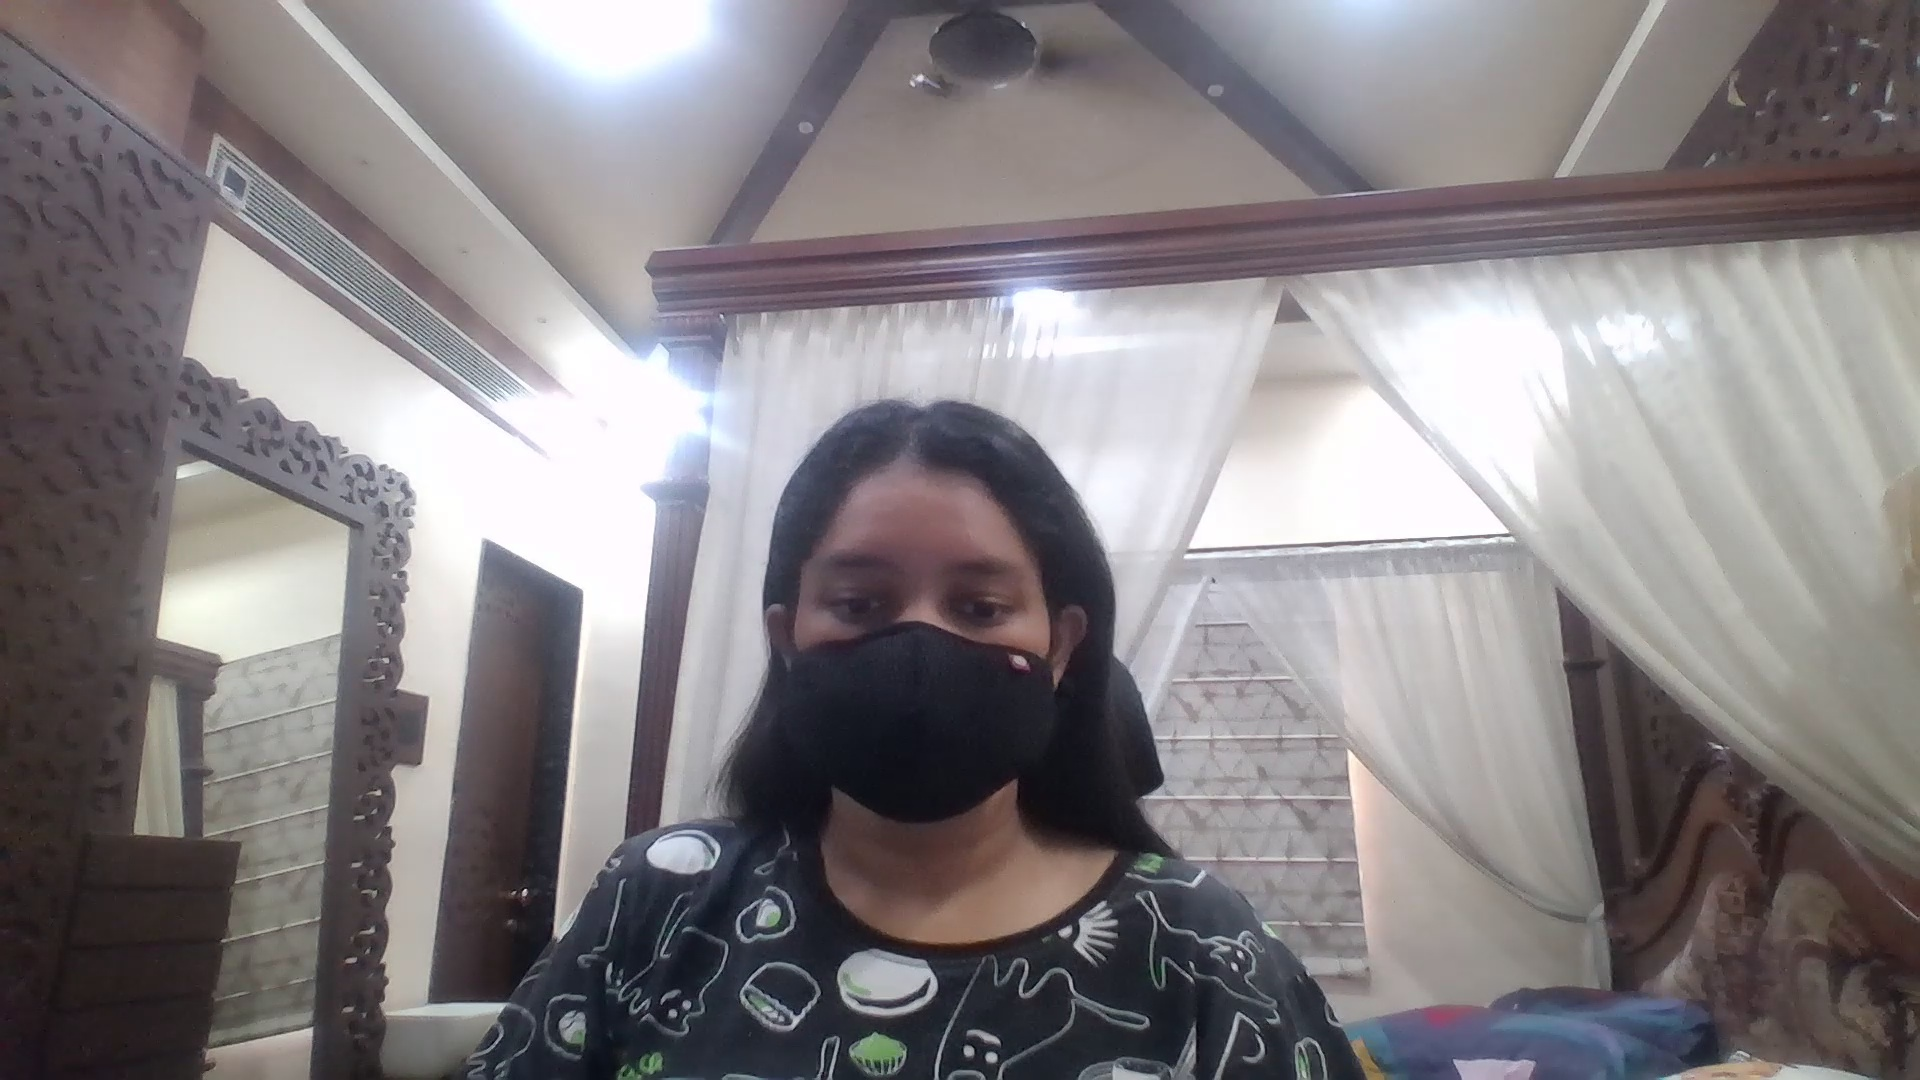Mask: (776, 625, 1098, 838)
